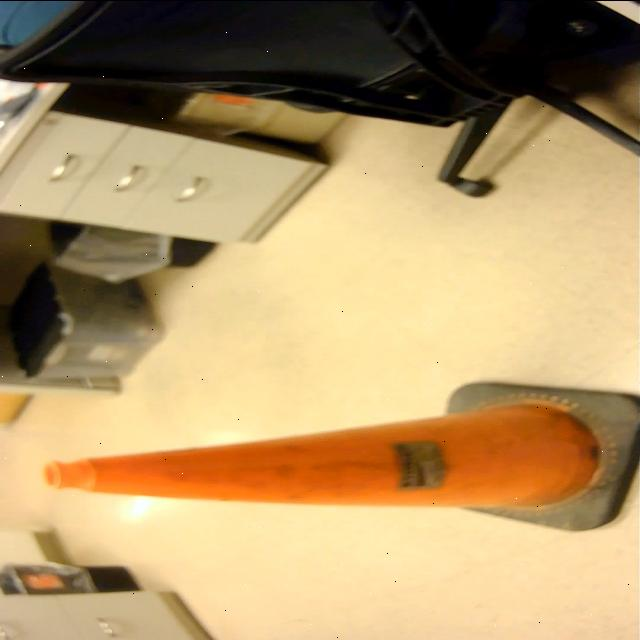traffic cone: (34, 375, 640, 537)
